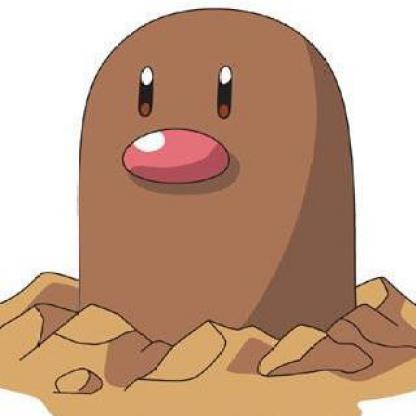Diglett: (5, 2, 416, 413)
